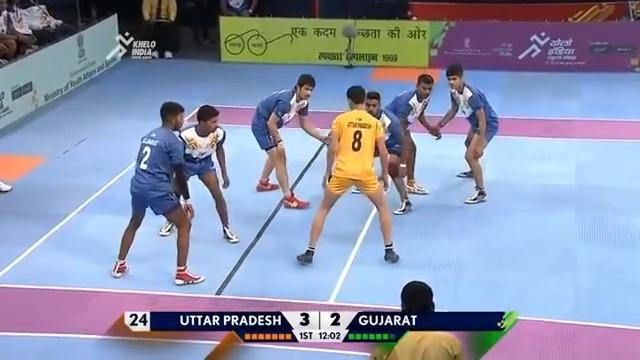Player: (212, 131, 332, 296), (109, 99, 206, 287), (250, 73, 331, 209), (433, 62, 499, 204), (380, 72, 440, 213), (186, 95, 228, 206)
Raider: (296, 82, 402, 266)
referee: (370, 280, 464, 359), (141, 0, 179, 59)
